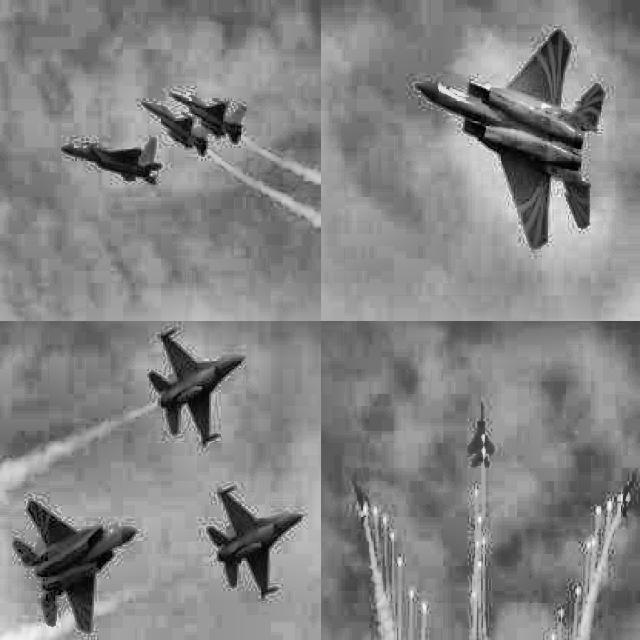F15: (416, 28, 604, 250), (13, 498, 138, 634), (61, 137, 162, 186), (468, 402, 494, 468)
F16: (148, 327, 248, 447), (208, 485, 304, 600), (168, 91, 248, 144), (139, 99, 210, 156), (616, 469, 636, 518), (352, 477, 372, 525)
